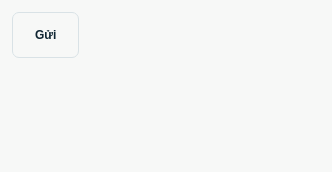
UI components › async failure is shown instead of success
The image size is (332, 172).
What coordinates should you click on to do the following:
click the button "Gửi"
I would click on:
 (46, 35)
Its box is [12,12,79,58].
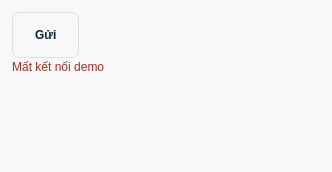
expect the message reads "Mất kết nối demo": met, box [12,60,104,74]
